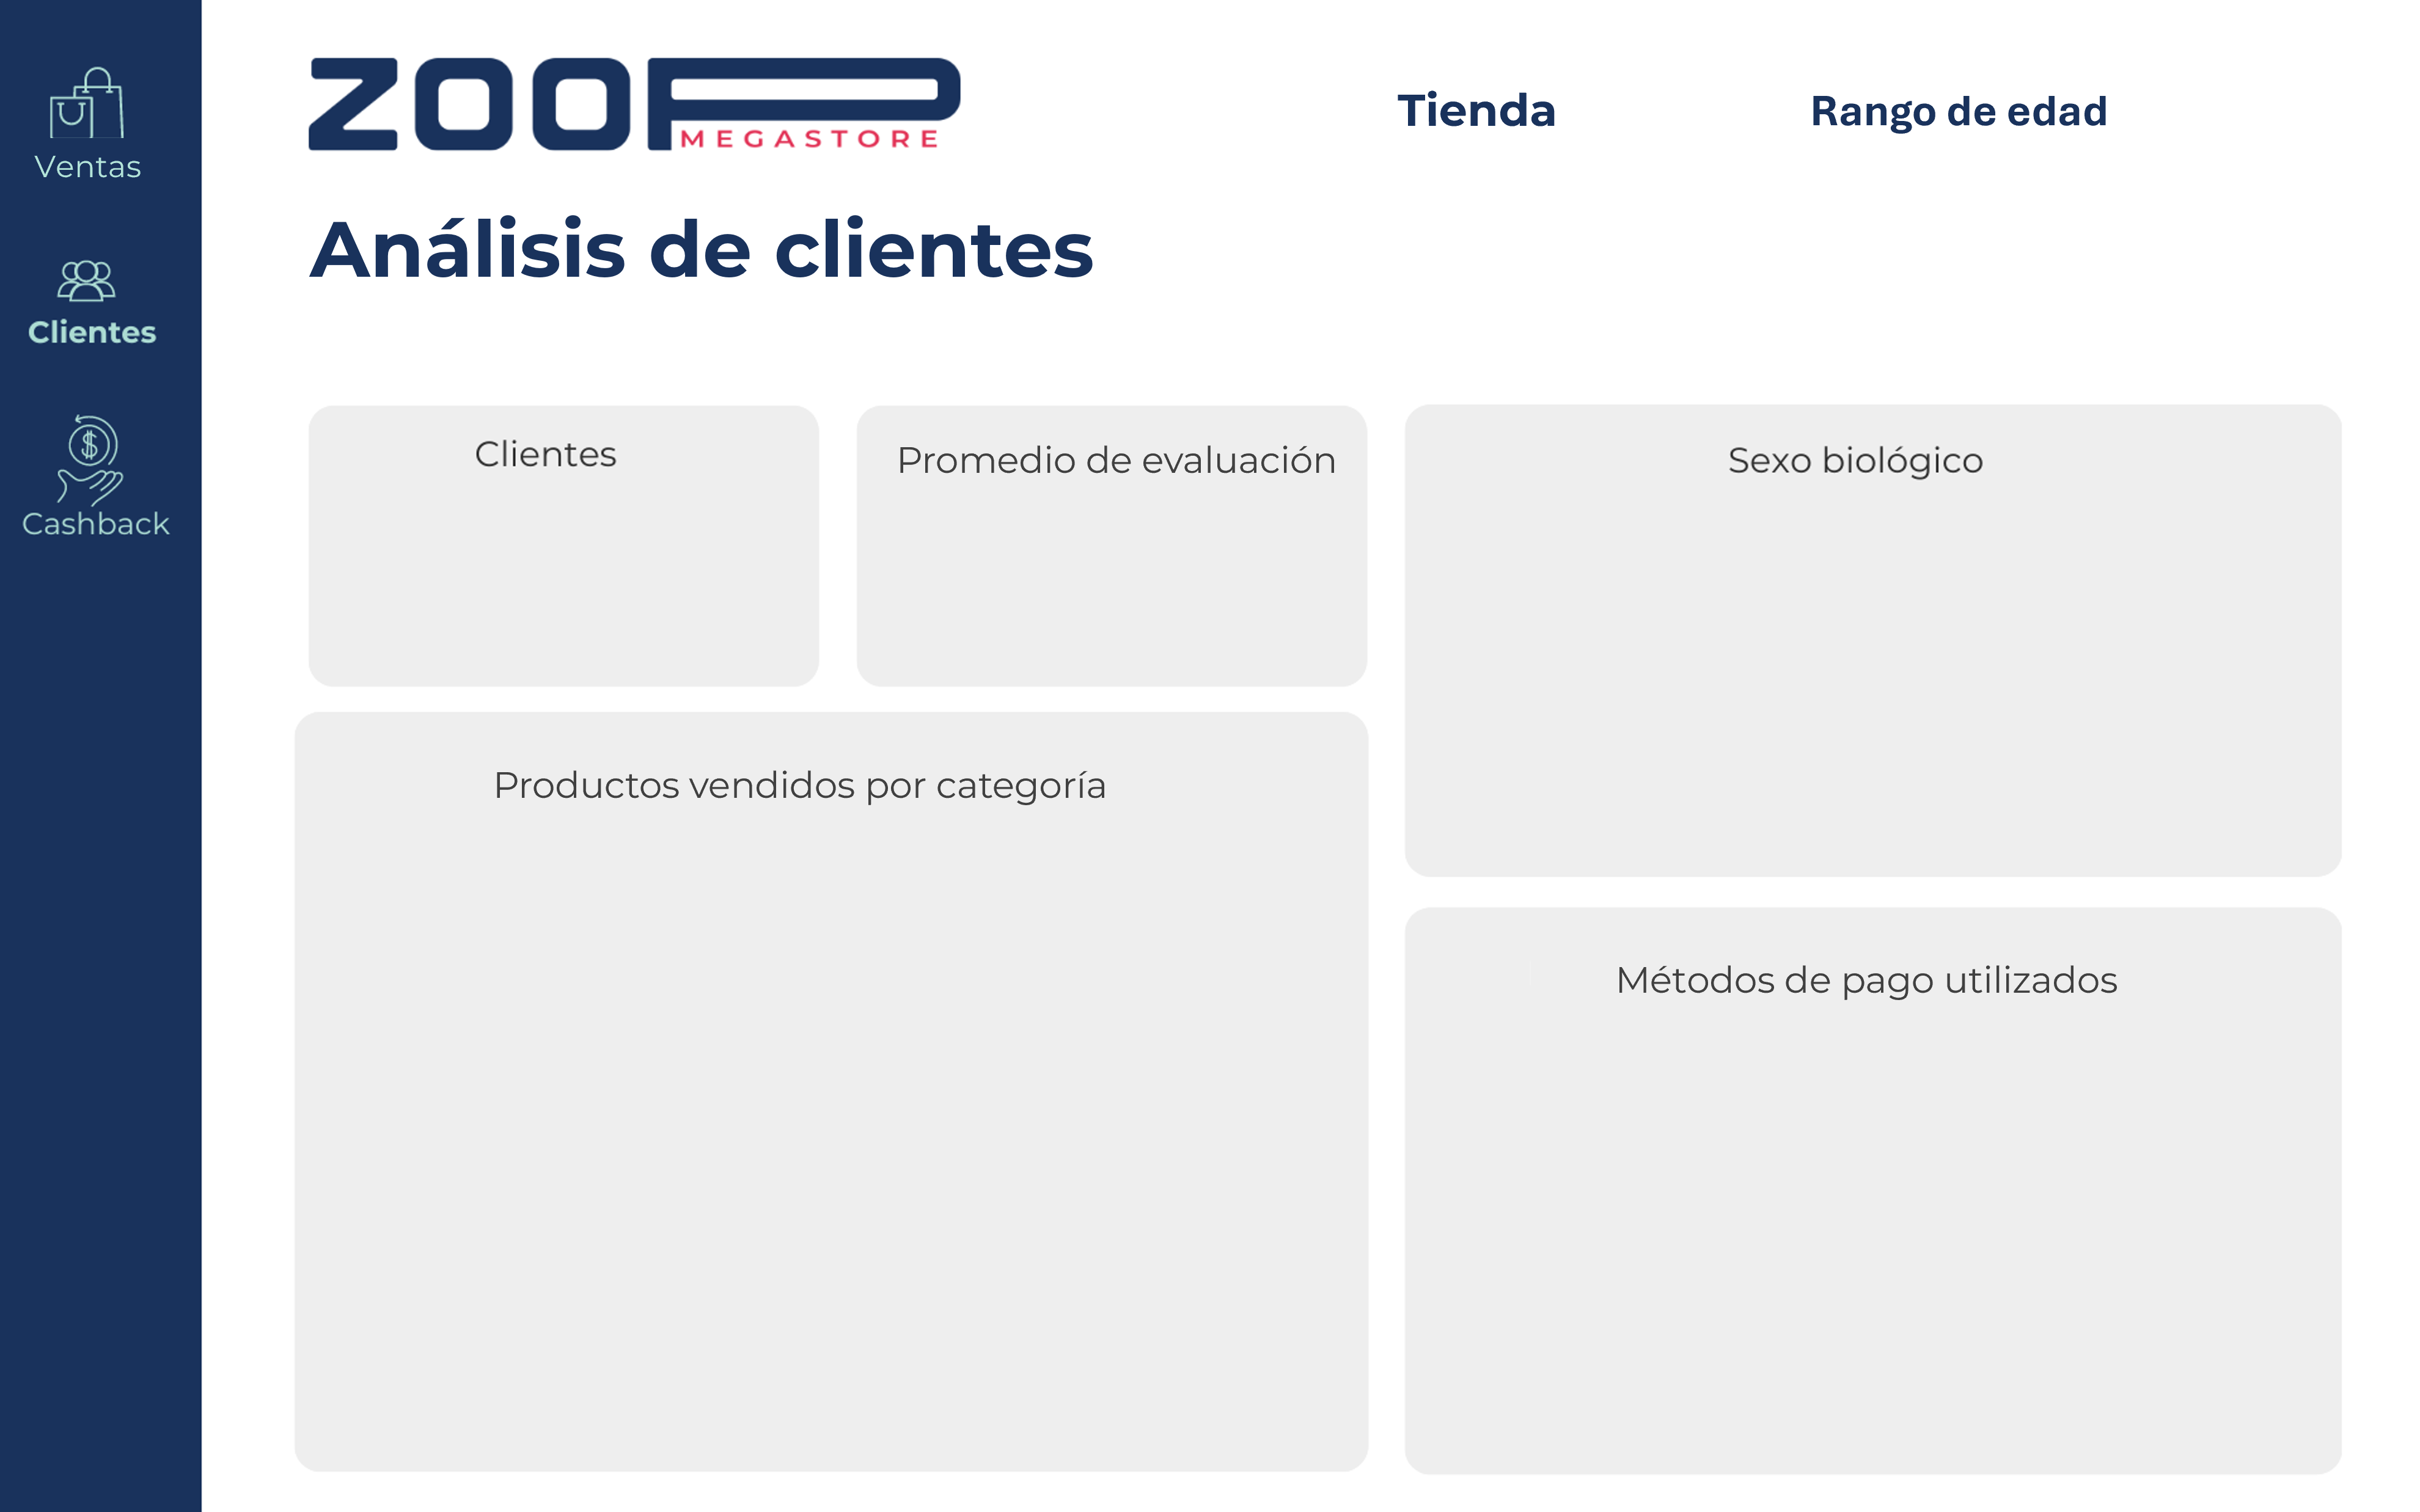

Layout of this report page (visuals, bound fields, positions):
{"tool":"powerbi","page":{"name":"Clientes","canvas":[1280,720],"ordinal":1},"visuals":[{"type":"card","fields":{"Values":["Avg(clientes.Evaluación de la compra)"]},"box":[457.9,229.7,259.4,92.2],"z":0},{"type":"pieChart","fields":{"Category":["clientes.Sexo biológico"],"Y":["Count(clientes)"]},"box":[753.6,209.3,477,197.4],"z":1000},{"type":"clusteredBarChart","fields":{"Category":["ventas_2022.Categoría del producto"],"Y":["Sum(ventas_2022.Cantidad)"]},"box":[168.2,392.8,549.2,299.6],"z":2000},{"type":"clusteredColumnChart","fields":{"Category":["ventas_2022.Método de pago"],"Y":["Count(ventas_2022.ID compra)"]},"box":[752.8,479.6,476.9,212.8],"z":3000},{"type":"slicer","fields":{"Values":["ventas_2022.Unidad"]},"box":[691.1,67,187.9,51.2],"z":4000},{"type":"slicer","fields":{"Values":["clientes.RangosEdad"]},"box":[933.1,67.3,227.3,50.8],"z":5000},{"type":"card","fields":{"Values":["Count(clientes.ID cliente)"]},"box":[167.5,230.3,264.7,92.7],"z":6000},{"type":"actionButton","box":[0,19.4,107.7,79.3],"z":6001},{"type":"actionButton","box":[0,188.4,108.1,72],"z":6002}]}

Visuals, with their boxes on the page's 1280x720 design canvas (x1, y1, x2, y2). These are canvas units, not pixel positions in the 2420x1512 screenshot, which may show the page scaled, cropped or inside an application window:
card - Avg(clientes.Evaluación de la compra): pyautogui.locateOnScreen(458, 230, 717, 322)
pieChart - clientes.Sexo biológico x Count(clientes): pyautogui.locateOnScreen(754, 209, 1231, 407)
clusteredBarChart - ventas_2022.Categoría del producto x Sum(ventas_2022.Cantidad): pyautogui.locateOnScreen(168, 393, 717, 692)
clusteredColumnChart - ventas_2022.Método de pago x Count(ventas_2022.ID compra): pyautogui.locateOnScreen(753, 480, 1230, 692)
slicer - ventas_2022.Unidad: pyautogui.locateOnScreen(691, 67, 879, 118)
slicer - clientes.RangosEdad: pyautogui.locateOnScreen(933, 67, 1160, 118)
card - Count(clientes.ID cliente): pyautogui.locateOnScreen(168, 230, 432, 323)
actionButton: pyautogui.locateOnScreen(0, 19, 108, 99)
actionButton: pyautogui.locateOnScreen(0, 188, 108, 260)
